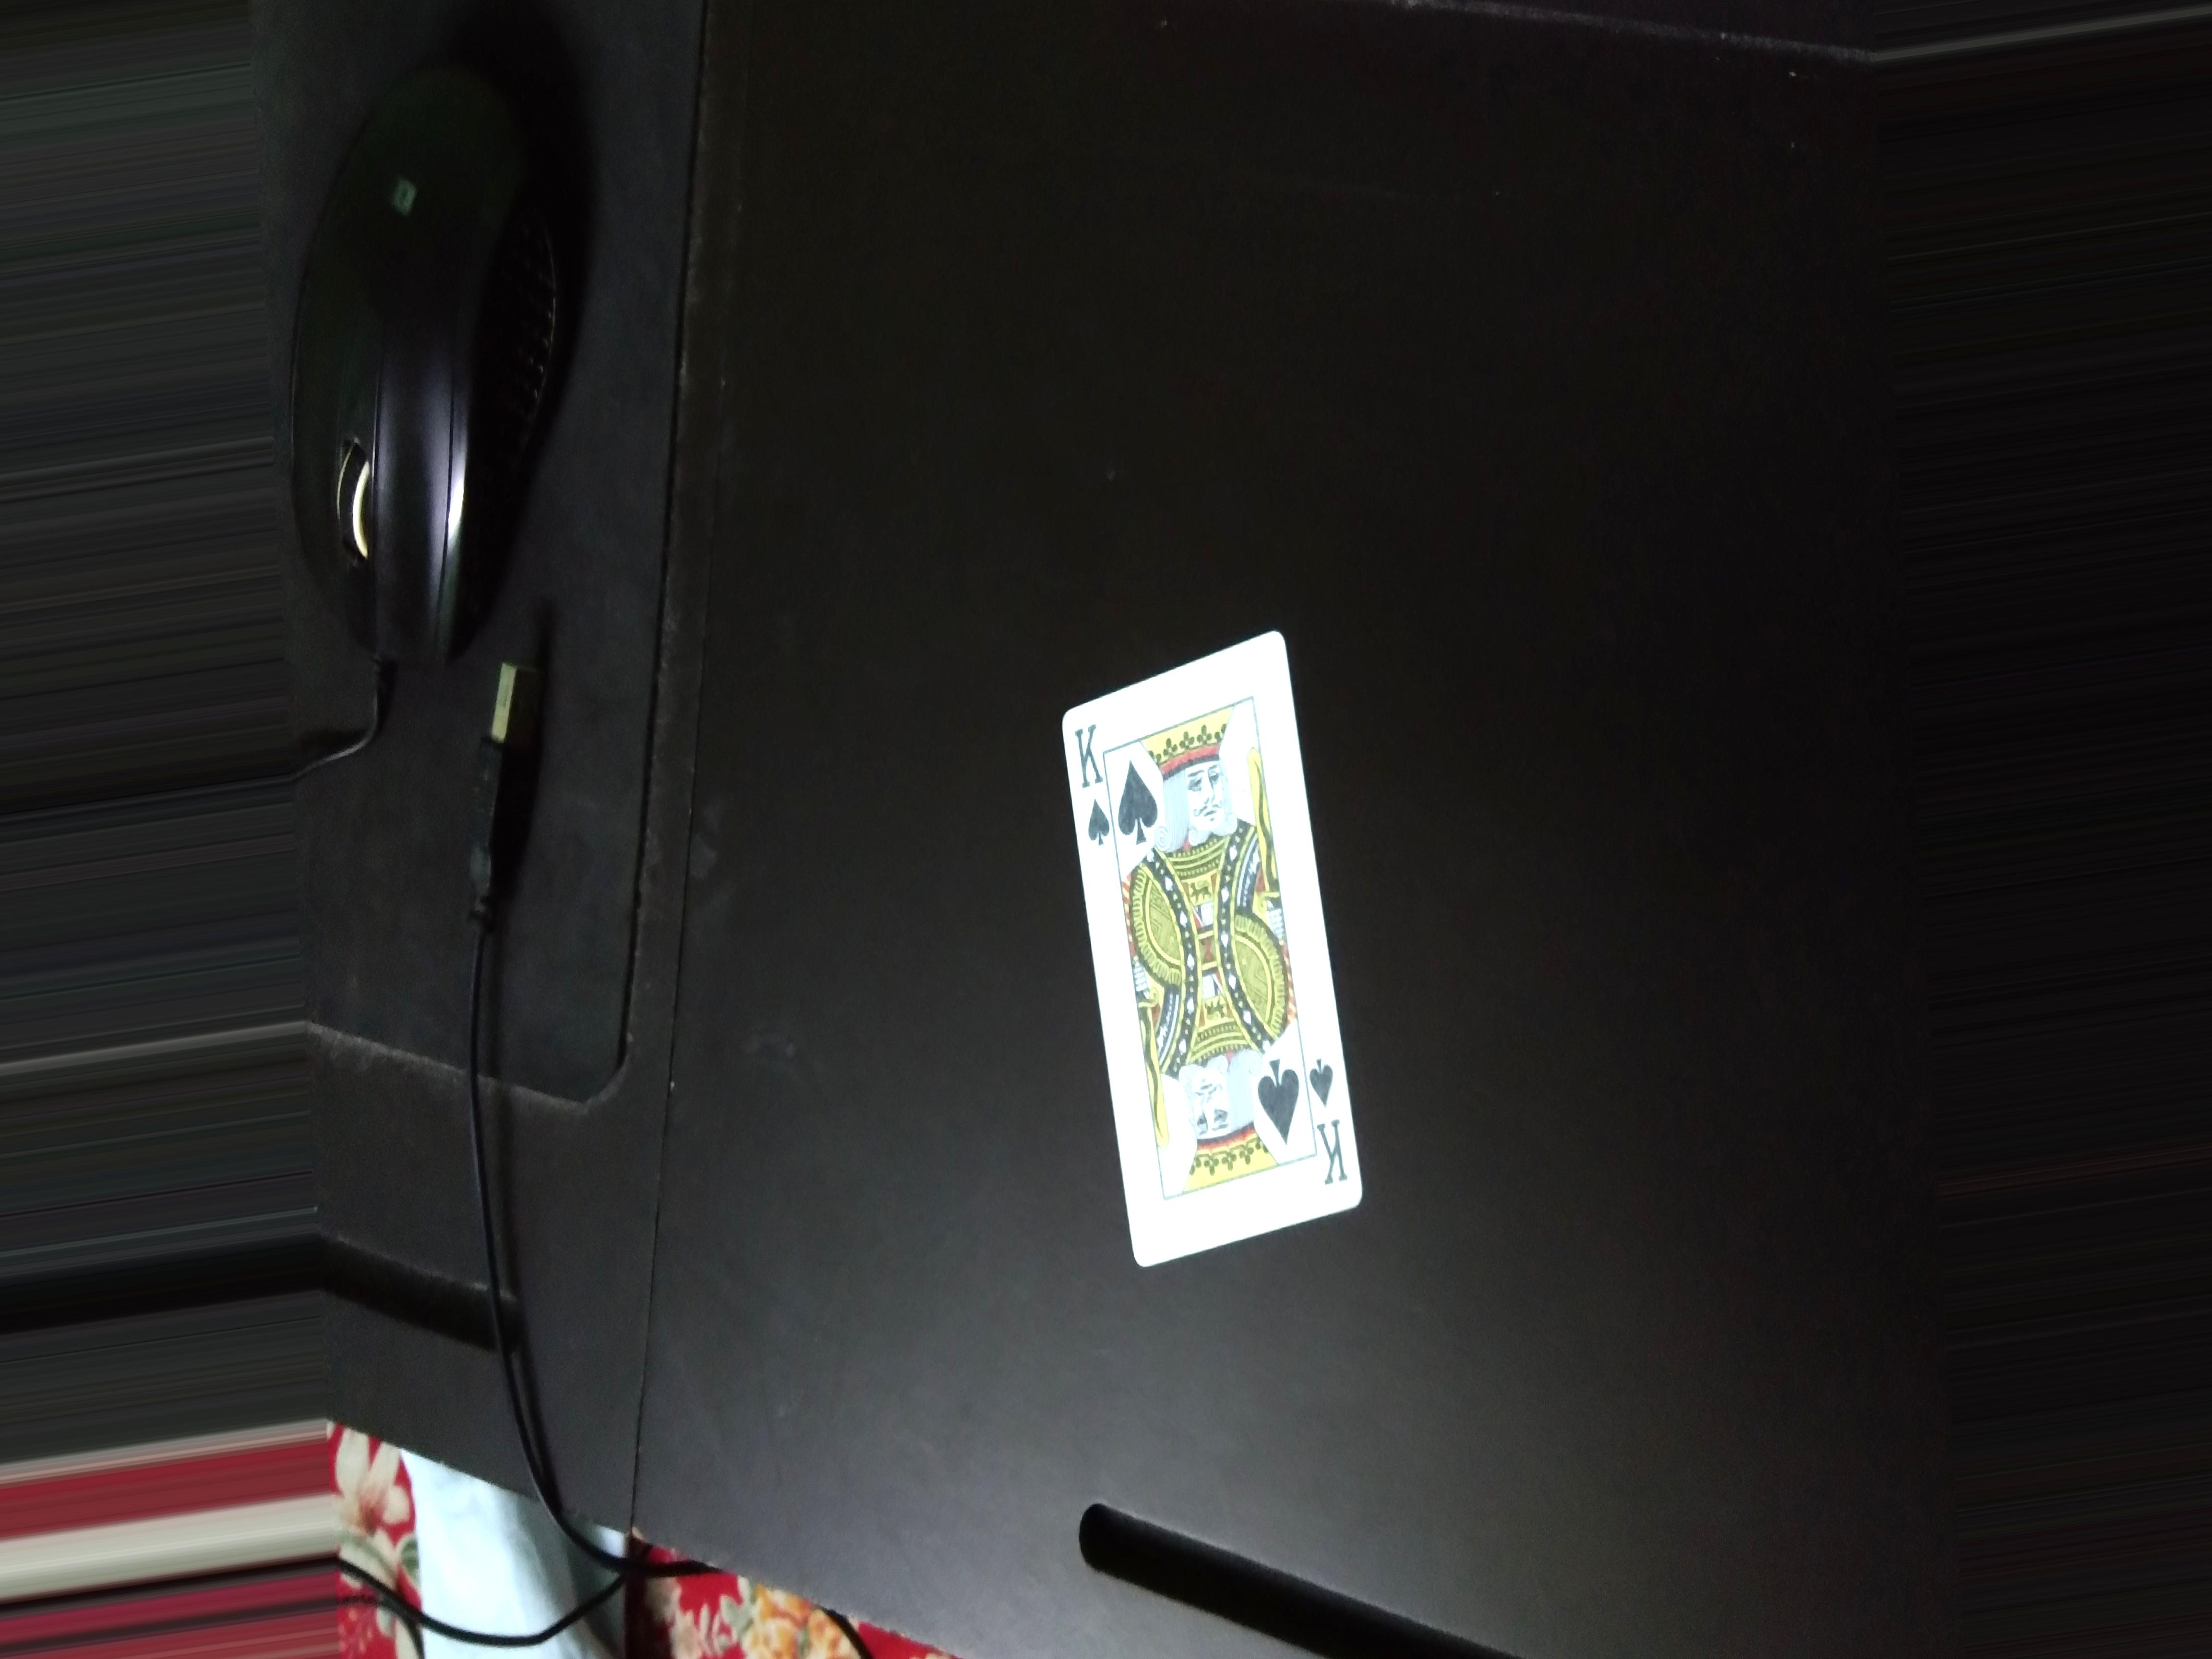KS: (1306, 1053, 1352, 1195)
